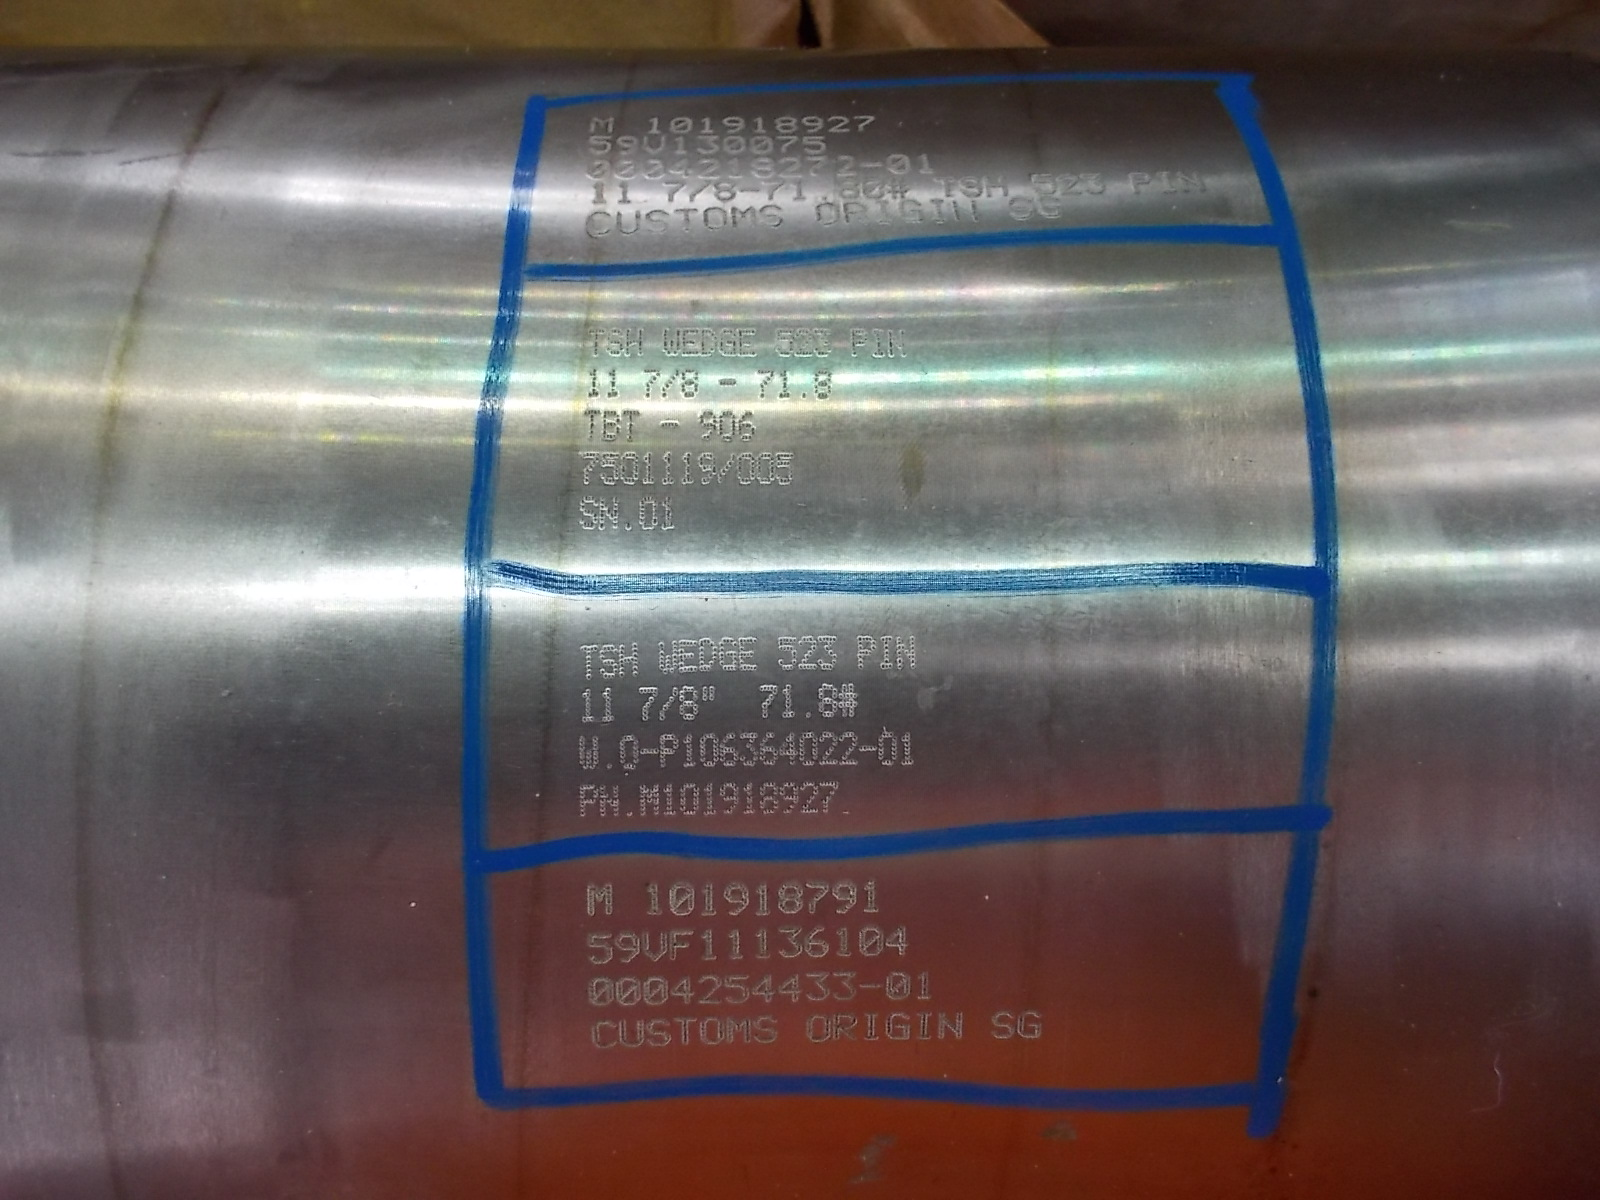character: (664, 879, 698, 920), (583, 881, 619, 920), (831, 879, 860, 921), (722, 879, 752, 919), (775, 879, 804, 920), (850, 630, 877, 676), (804, 879, 831, 921), (837, 679, 866, 720), (586, 1016, 619, 1051), (884, 969, 916, 1006), (775, 924, 804, 963), (804, 923, 831, 963), (988, 1006, 1015, 1046), (935, 1010, 969, 1042), (801, 968, 831, 1005), (1015, 1008, 1044, 1046), (614, 205, 643, 242), (640, 929, 669, 966), (855, 924, 884, 961), (774, 632, 797, 676), (894, 632, 921, 671), (1026, 166, 1060, 197), (819, 632, 842, 677), (583, 974, 614, 1008), (831, 968, 859, 1005), (659, 490, 682, 534), (755, 681, 779, 722), (640, 879, 664, 920), (581, 211, 614, 241), (750, 972, 779, 1006), (586, 930, 614, 966), (694, 973, 722, 1008), (740, 632, 762, 674), (651, 639, 678, 676), (679, 683, 703, 724), (576, 732, 600, 773), (698, 879, 722, 919), (643, 205, 673, 237), (1123, 168, 1153, 199), (1036, 193, 1066, 224), (860, 879, 886, 916), (700, 202, 729, 234), (1003, 195, 1036, 224), (884, 924, 913, 957), (697, 1016, 726, 1049), (884, 1012, 913, 1045), (718, 632, 740, 676), (797, 632, 819, 676), (576, 642, 598, 683), (635, 684, 658, 726), (752, 879, 775, 920), (614, 932, 641, 966), (614, 974, 641, 1008), (751, 1013, 779, 1047), (833, 1011, 860, 1045), (617, 640, 641, 679), (596, 686, 620, 725), (805, 1010, 831, 1045), (677, 782, 702, 818), (659, 729, 680, 771), (779, 730, 800, 773), (818, 729, 839, 771), (876, 729, 897, 771), (916, 966, 939, 1006), (758, 200, 787, 232), (950, 198, 981, 227), (722, 973, 750, 1006), (619, 1018, 646, 1051), (637, 783, 661, 821), (831, 923, 855, 961), (1175, 166, 1209, 193), (669, 929, 695, 963), (643, 974, 669, 1008), (598, 493, 620, 534), (637, 493, 659, 534), (617, 732, 639, 774), (839, 729, 860, 770), (656, 325, 682, 361), (845, 325, 871, 361), (758, 729, 779, 773), (726, 1013, 751, 1049), (576, 450, 598, 489), (598, 783, 621, 822), (729, 202, 758, 232), (1078, 168, 1107, 198), (811, 367, 835, 403), (776, 450, 800, 487), (577, 494, 598, 534), (678, 635, 699, 676), (815, 679, 837, 720), (658, 683, 679, 724), (700, 729, 721, 771), (577, 782, 598, 822), (695, 407, 718, 445), (722, 928, 745, 966), (669, 974, 694, 1008), (673, 204, 700, 234), (887, 325, 913, 357), (598, 640, 617, 684), (721, 782, 743, 818), (757, 782, 780, 818), (737, 408, 761, 442), (750, 926, 774, 961), (580, 406, 601, 444), (621, 405, 643, 442), (721, 729, 740, 771), (740, 729, 758, 771), (813, 202, 842, 229), (646, 1018, 674, 1047), (656, 178, 687, 204), (813, 325, 835, 361), (860, 1011, 883, 1046), (925, 195, 950, 227), (755, 450, 776, 487), (598, 450, 620, 487), (877, 632, 894, 676), (799, 783, 821, 817), (779, 972, 801, 1006), (711, 176, 740, 203), (898, 195, 925, 224), (716, 450, 736, 488), (677, 449, 695, 489), (699, 635, 718, 676), (779, 681, 797, 721), (680, 734, 700, 771), (698, 926, 719, 962), (753, 368, 777, 400), (581, 159, 614, 182), (679, 367, 702, 400), (658, 449, 677, 488), (620, 450, 640, 487), (800, 730, 818, 771), (897, 730, 915, 771), (884, 151, 913, 176), (737, 324, 758, 358), (913, 1008, 935, 1042), (640, 134, 670, 158), (692, 134, 722, 158), (736, 450, 755, 488), (674, 1016, 697, 1047), (583, 367, 603, 402), (821, 782, 842, 817), (640, 367, 661, 400), (718, 408, 737, 445), (697, 450, 716, 487), (702, 782, 721, 818), (585, 135, 615, 158), (624, 326, 646, 357), (699, 326, 719, 361), (774, 326, 794, 361), (601, 408, 621, 442), (803, 156, 834, 178), (585, 326, 606, 358), (913, 150, 939, 176), (609, 180, 635, 205), (794, 325, 813, 361), (640, 450, 658, 488), (780, 783, 799, 818), (687, 176, 711, 204), (761, 176, 789, 200), (585, 113, 617, 134), (578, 684, 595, 725), (1058, 168, 1081, 197), (693, 158, 723, 179), (873, 198, 894, 228), (719, 324, 737, 361), (801, 134, 833, 154), (860, 176, 887, 200), (931, 174, 957, 198), (639, 158, 666, 180), (850, 113, 879, 135), (746, 135, 775, 156), (1155, 166, 1175, 197), (615, 134, 640, 158), (614, 158, 639, 182), (585, 180, 609, 205), (843, 200, 868, 224), (775, 134, 801, 156), (666, 158, 693, 180), (957, 175, 984, 198), (682, 326, 699, 361), (666, 113, 694, 135), (719, 115, 747, 136), (661, 782, 677, 821), (871, 325, 887, 361), (661, 367, 679, 400), (748, 158, 779, 176), (774, 113, 800, 135), (825, 113, 852, 135), (984, 175, 1010, 197), (799, 115, 826, 135), (606, 326, 624, 358), (776, 368, 794, 400), (722, 135, 746, 158), (789, 178, 811, 202), (837, 178, 860, 200), (887, 176, 910, 200), (670, 132, 692, 158), (723, 158, 748, 179), (835, 154, 857, 178), (777, 158, 803, 178), (743, 782, 757, 818), (603, 367, 619, 398), (643, 115, 664, 135), (695, 115, 717, 135), (750, 113, 769, 135), (658, 418, 683, 434), (700, 683, 718, 702), (716, 374, 740, 388), (857, 159, 884, 170), (857, 979, 884, 991), (738, 185, 763, 195), (639, 745, 659, 758), (859, 744, 878, 754), (622, 522, 634, 534), (804, 708, 813, 722), (603, 763, 614, 771), (819, 194, 829, 202), (800, 391, 808, 400), (624, 811, 632, 818)
